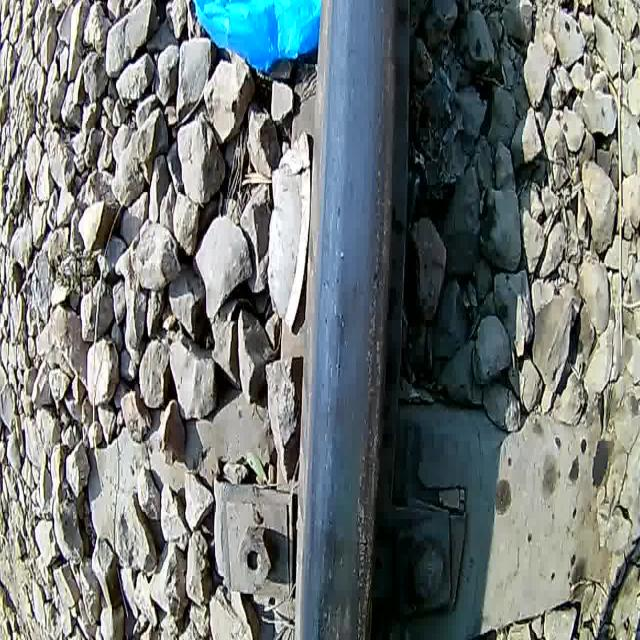Squats: (278, 0, 427, 640)
